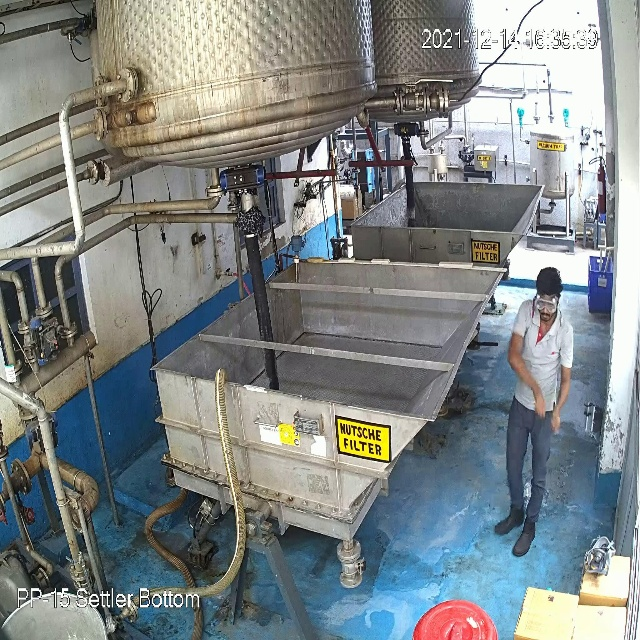Gafas: (532, 294, 561, 313)
Sin_guantes: (508, 355, 548, 425), (547, 365, 572, 439)
Sin_mascara: (533, 306, 558, 328)
